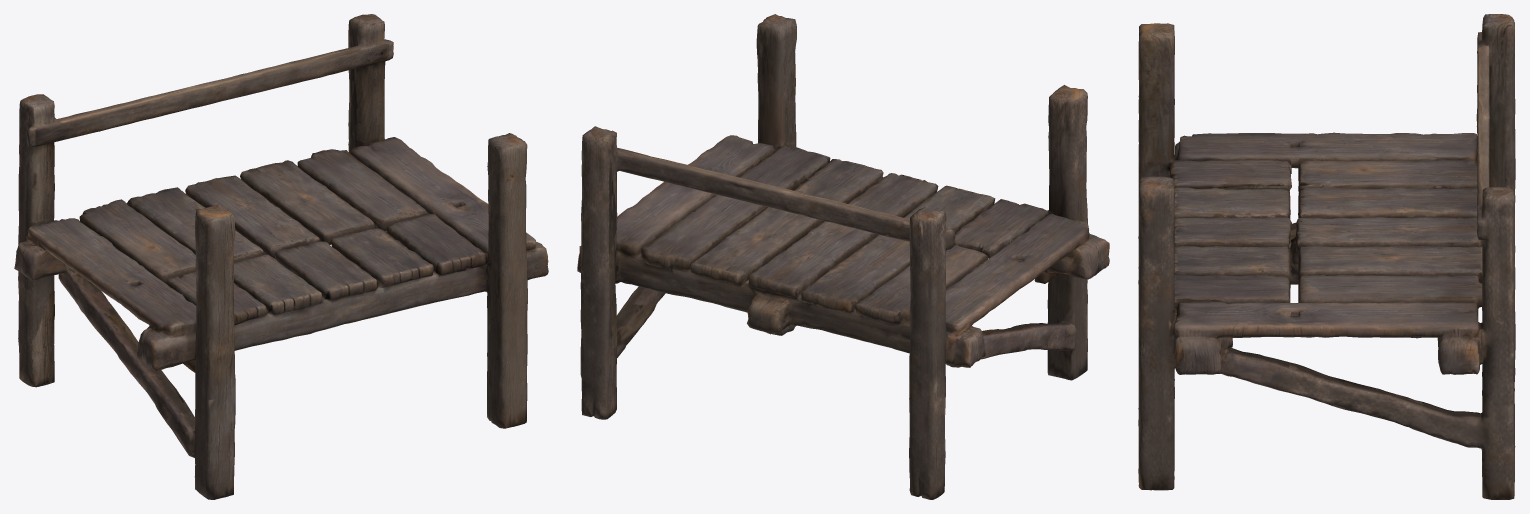
Rendered from Meshy_AI_Rustic_Wooden_Platfor_0220192335_texture.glb.
3 renders of one model, left to right at view 1: azimuth 30°, elevation 25°; view 2: azimuth 150°, elevation 25°; view 3: azimuth 270°, elevation 25°, orthographic. The views are drawn at different scales.
Size of the model in its own units: 1.91 by 1.3 by 1.47.
Materials: 1 (1 with a texture image).
